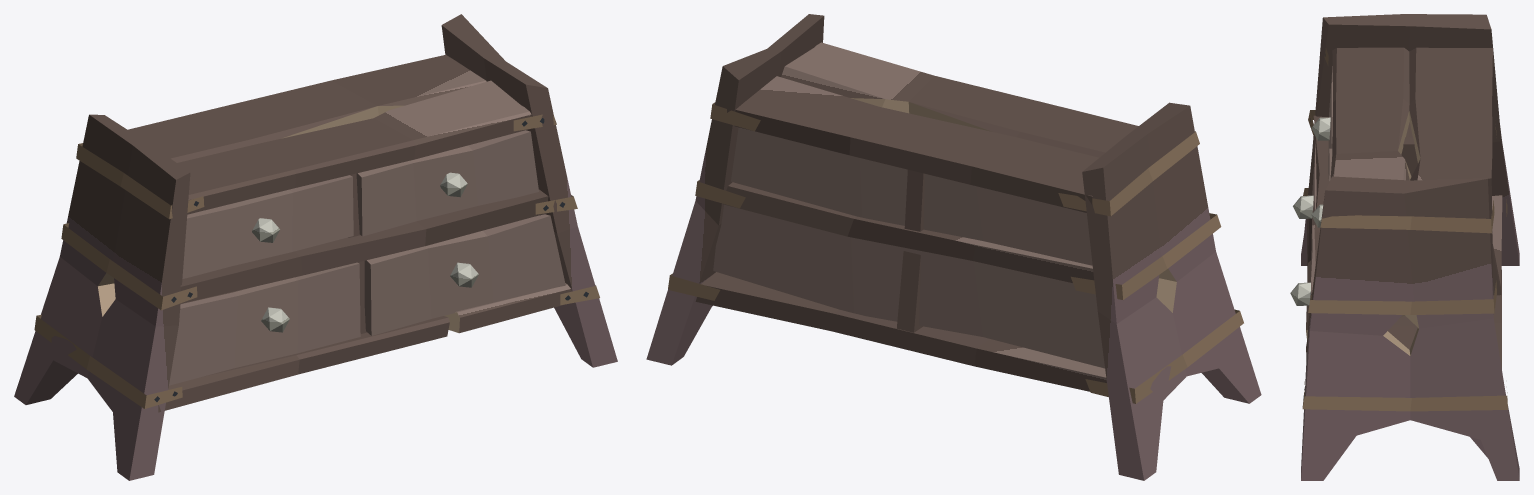
The model's file is Wardrobe_003.fbx.
The picture shows the model from 3 angles, left to right: view 1: azimuth 30°, elevation 25°; view 2: azimuth 150°, elevation 25°; view 3: azimuth 270°, elevation 25°; orthographic projection. The views are drawn at different scales.
Parts seen in each view (by area): view 1: Wardrobe_003; view 2: Wardrobe_003; view 3: Wardrobe_003.
Boxes of the visible parts, box(x1,y1,x2,y2) form: Wardrobe_003: box(14, 14, 617, 480); Wardrobe_003: box(646, 14, 1261, 480); Wardrobe_003: box(1290, 14, 1519, 480).
Bounding box in the file's own units: 137 × 77.44 × 58.55.
1 material, 1 textured.
